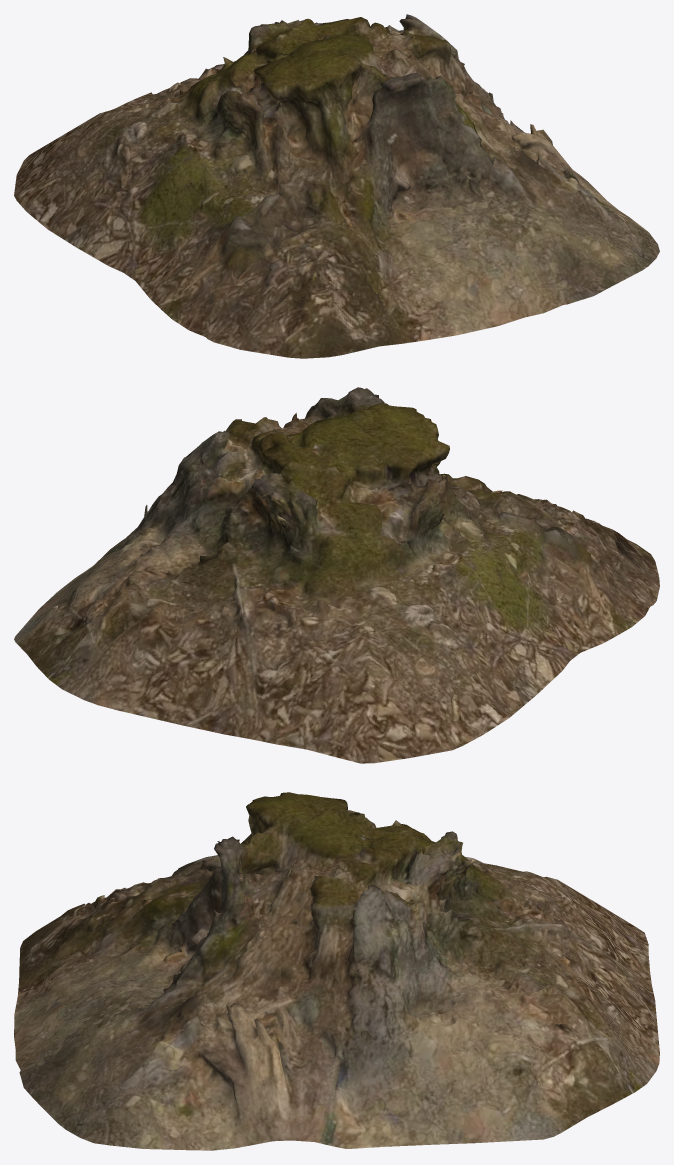
Rendered from tree_stump_01.glb.
3 renders of one model, top to bottom at view 1: azimuth 30°, elevation 25°; view 2: azimuth 150°, elevation 25°; view 3: azimuth 270°, elevation 25°, orthographic. The views are drawn at different scales.
Parts seen in each view (by area): view 1: tree_stump_01; view 2: tree_stump_01; view 3: tree_stump_01.
Boxes of the visible parts, x1,y1,x2,y2 form: tree_stump_01: (14,14,659,358); tree_stump_01: (14,387,659,763); tree_stump_01: (14,792,659,1150).
Size of the model in its own units: 1.43 by 0.5725 by 1.59.
Materials: 1 (1 with a texture image).
